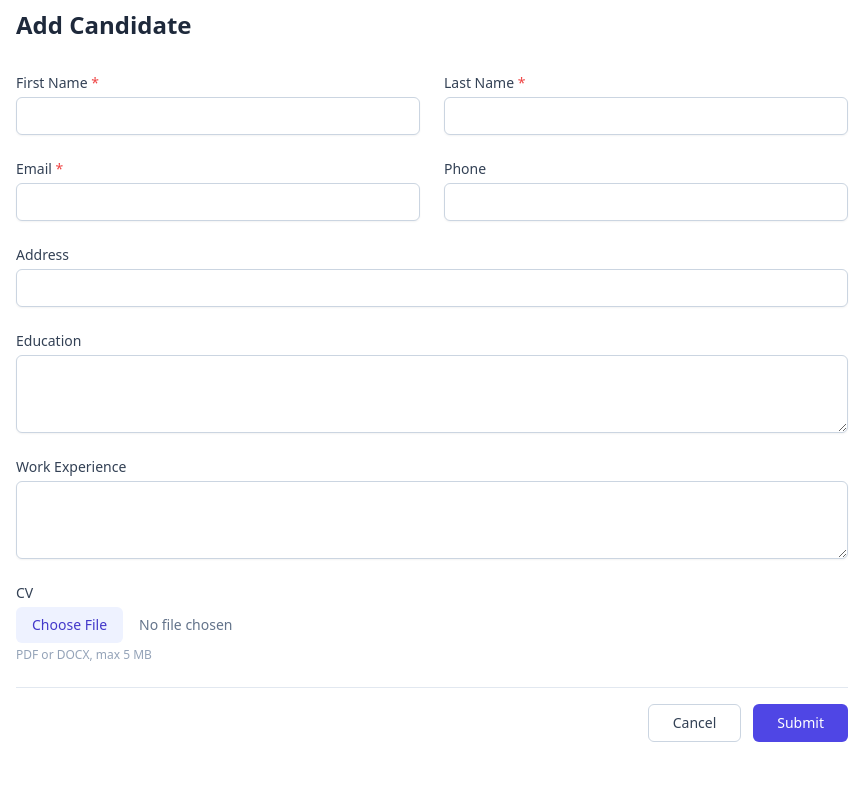
Scenario: AddCandidate validation › shows inline error when firstName is empty on submit
The width and height of the screenshot is (865, 799).
Step 1. Click the button "Submit" → (801, 723), box [753,704,848,742]
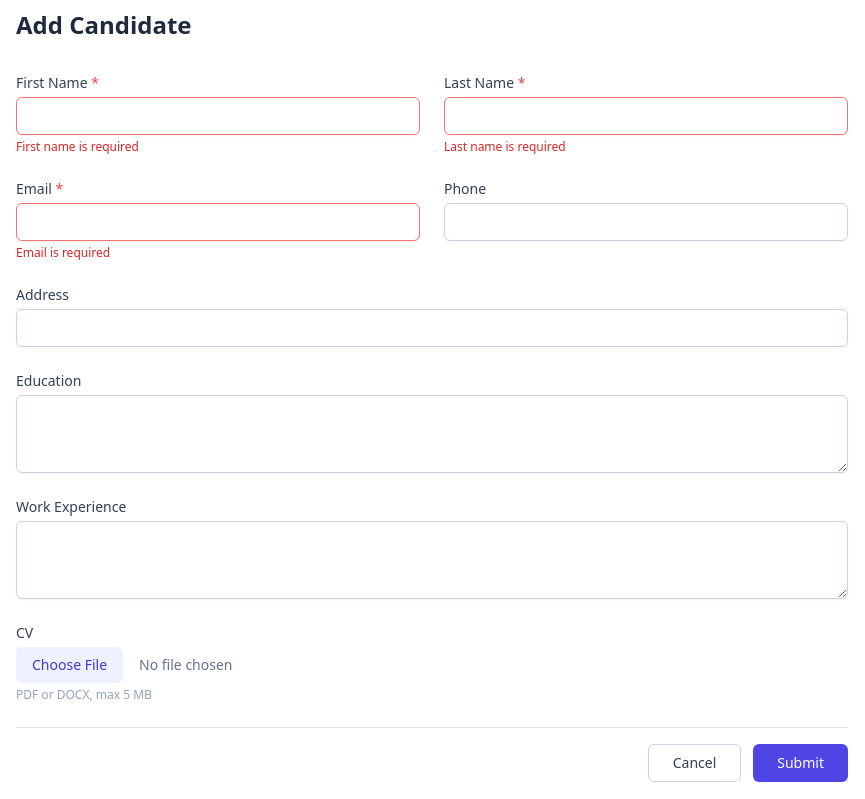
Now the text "First name is required" is shown, box [16,138,139,155]
